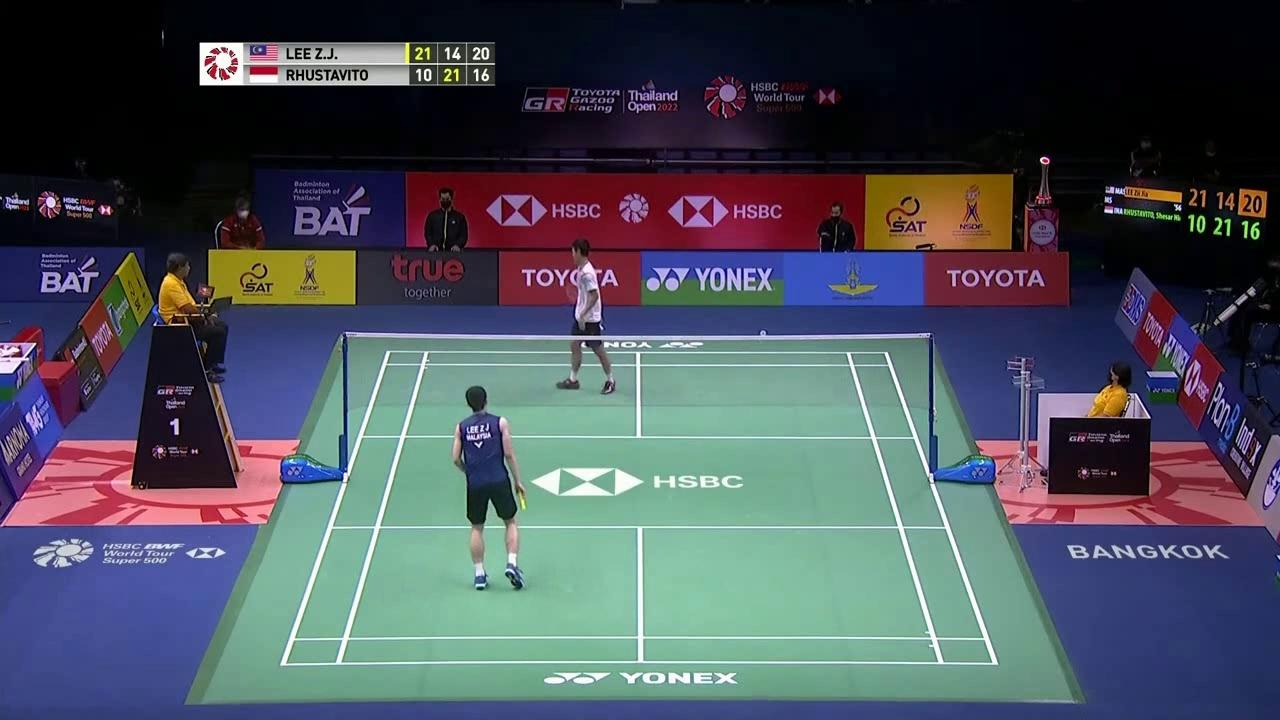racket: (514, 490, 531, 513), (564, 281, 580, 302)
shuttle: (759, 327, 768, 338)
